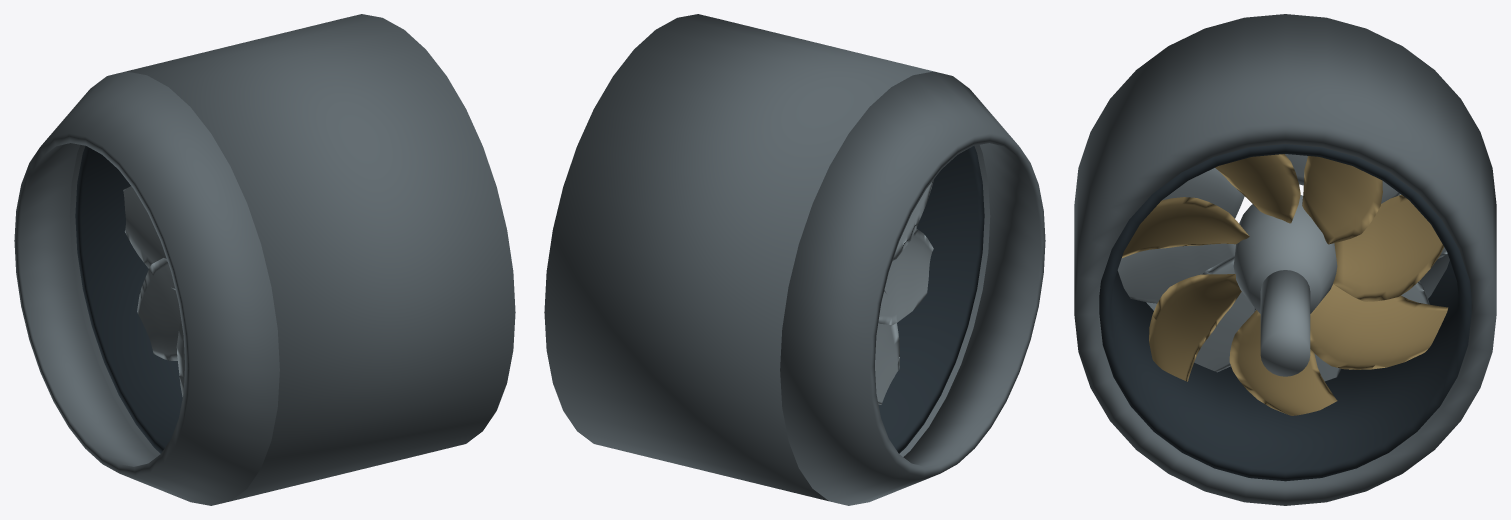
Rendered from UK_PJ_Astute_LOD0.fbx.
3 views of the same model, side by side, from view 1: azimuth 30°, elevation 25°; view 2: azimuth 150°, elevation 25°; view 3: azimuth 270°, elevation 25° (orthographic). The views are drawn at different scales.
Parts seen in each view (by area): view 1: UK_PJ_Astute_LOD0_Housing.001, UK_PJ_Astute_LOD0_Nozzle.001, UK_PJ_Astute_LOD0_Lining.001, UK_PJ_Astute_LOD0_Stator_08.001, UK_PJ_Astute_LOD0_Stator_00.001; view 2: UK_PJ_Astute_LOD0_Housing.001, UK_PJ_Astute_LOD0_Nozzle.001, UK_PJ_Astute_LOD0_Lining.001, UK_PJ_Astute_LOD0_Stator_05.001, UK_PJ_Astute_LOD0_Stator_06.001, UK_PJ_Astute_LOD0_Stator_04.001; view 3: UK_PJ_Astute_LOD0_Housing.001, UK_PJ_Astute_LOD0_Lining.001, UK_PJ_Astute_LOD0_Rotor_06.001, UK_PJ_Astute_LOD0_Rotor_00.001, UK_PJ_Astute_LOD0_Hub.001, UK_PJ_Astute_LOD0_Rotor_04.001, UK_PJ_Astute_LOD0_Rotor_01.001, UK_PJ_Astute_LOD0_Shaft.001, UK_PJ_Astute_LOD0_Rotor_05.001, UK_PJ_Astute_LOD0_Rotor_03.001, UK_PJ_Astute_LOD0_Stator_05.001, UK_PJ_Astute_LOD0_Rotor_02.001 (+3 smaller).
Part boxes in pixels (x1,y1,x2,y2): UK_PJ_Astute_LOD0_Housing.001: (69, 14, 515, 501); UK_PJ_Astute_LOD0_Nozzle.001: (14, 71, 279, 505); UK_PJ_Astute_LOD0_Lining.001: (75, 146, 182, 453); UK_PJ_Astute_LOD0_Stator_08.001: (137, 258, 181, 360); UK_PJ_Astute_LOD0_Stator_00.001: (123, 186, 175, 289); UK_PJ_Astute_LOD0_Housing.001: (544, 14, 990, 501); UK_PJ_Astute_LOD0_Nozzle.001: (780, 71, 1045, 505); UK_PJ_Astute_LOD0_Lining.001: (878, 146, 984, 453); UK_PJ_Astute_LOD0_Stator_05.001: (878, 228, 933, 324); UK_PJ_Astute_LOD0_Stator_06.001: (875, 290, 899, 404); UK_PJ_Astute_LOD0_Stator_04.001: (892, 179, 933, 260); UK_PJ_Astute_LOD0_Housing.001: (1074, 14, 1496, 505); UK_PJ_Astute_LOD0_Lining.001: (1099, 144, 1471, 481); UK_PJ_Astute_LOD0_Rotor_06.001: (1310, 284, 1448, 369); UK_PJ_Astute_LOD0_Rotor_00.001: (1333, 194, 1443, 301); UK_PJ_Astute_LOD0_Hub.001: (1233, 195, 1337, 313); UK_PJ_Astute_LOD0_Rotor_04.001: (1149, 274, 1241, 381); UK_PJ_Astute_LOD0_Rotor_01.001: (1302, 156, 1382, 244); UK_PJ_Astute_LOD0_Shaft.001: (1260, 270, 1310, 376); UK_PJ_Astute_LOD0_Rotor_05.001: (1229, 310, 1337, 415); UK_PJ_Astute_LOD0_Rotor_03.001: (1122, 197, 1249, 257); UK_PJ_Astute_LOD0_Stator_05.001: (1117, 243, 1235, 303); UK_PJ_Astute_LOD0_Rotor_02.001: (1215, 154, 1300, 223).
Size of the model in its own units: 554 by 550 by 550.
